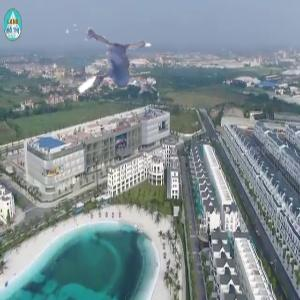drone: (34, 5, 170, 141)
